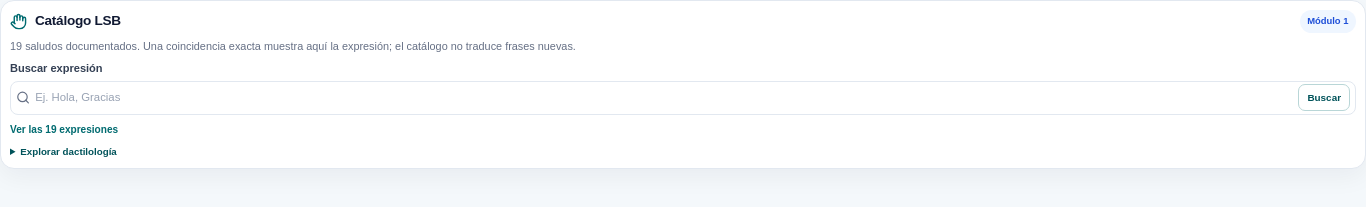
Test: LsbExpressionPanel › explains that a phrase outside the catalog has no documented expression
The image size is (1366, 207).
Step 1. Type "Nos vemos luego" into the field labelled "Buscar expresión" → (664, 98), box [35, 89, 1293, 106]
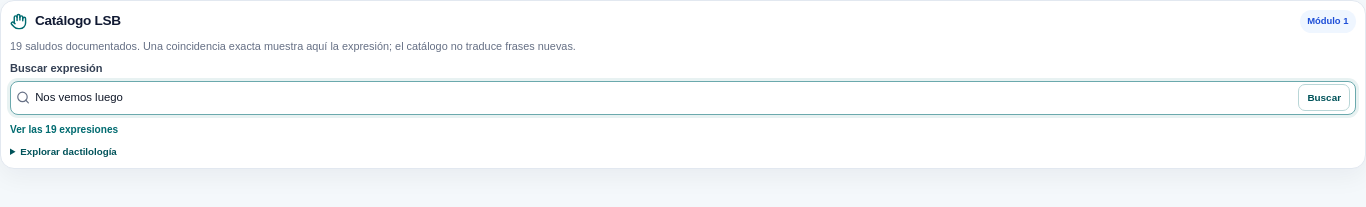
Step 2. Click the button "Buscar" → (1324, 98), box [1298, 84, 1350, 111]
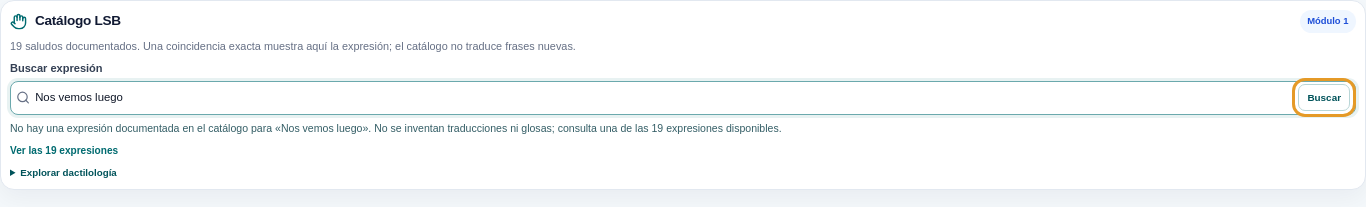
Result: the text "no se inventan traducciones ni glosas" is shown at [362, 122, 651, 134]
